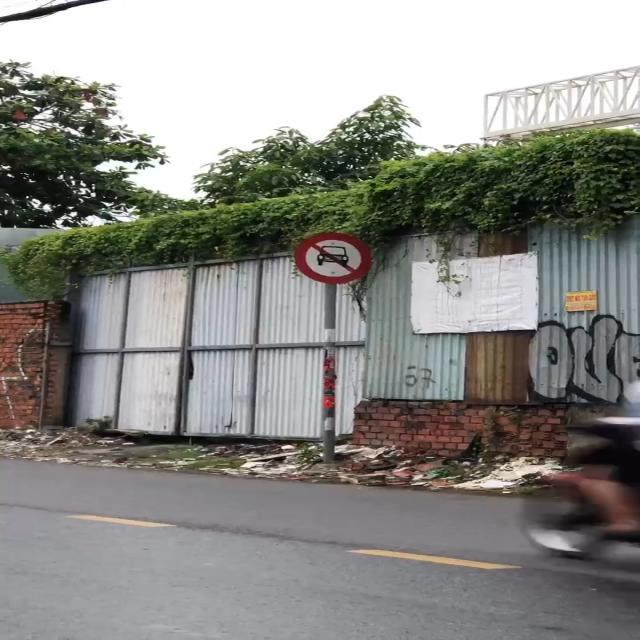Bien bao cam xe oto: (291, 230, 380, 286)
